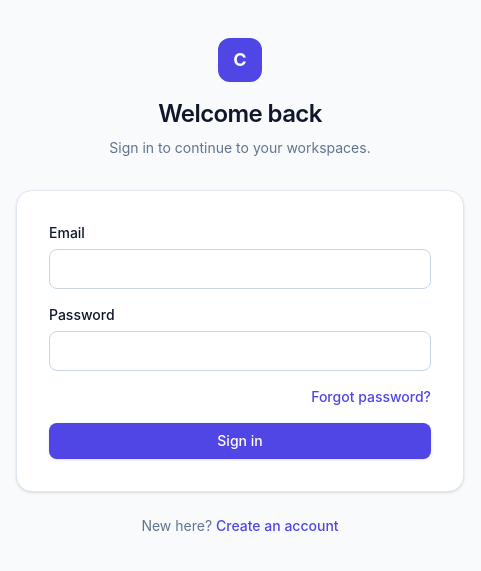
Scenario: LoginPage › shows client-side validation and does not call the API
Click the button "Sign in" at (240, 441), box [49,423,431,459]
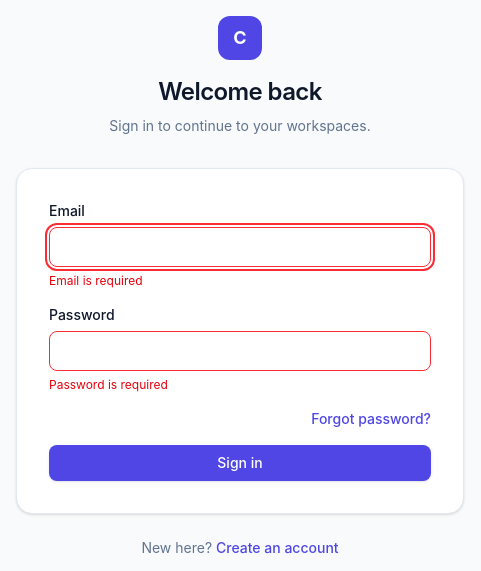
Result: the text "Email is required" is shown at [49,273,143,288]
